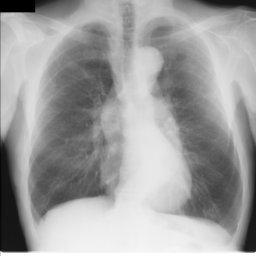left lobe: (151, 26, 242, 227)
right lobe: (29, 24, 114, 218)
